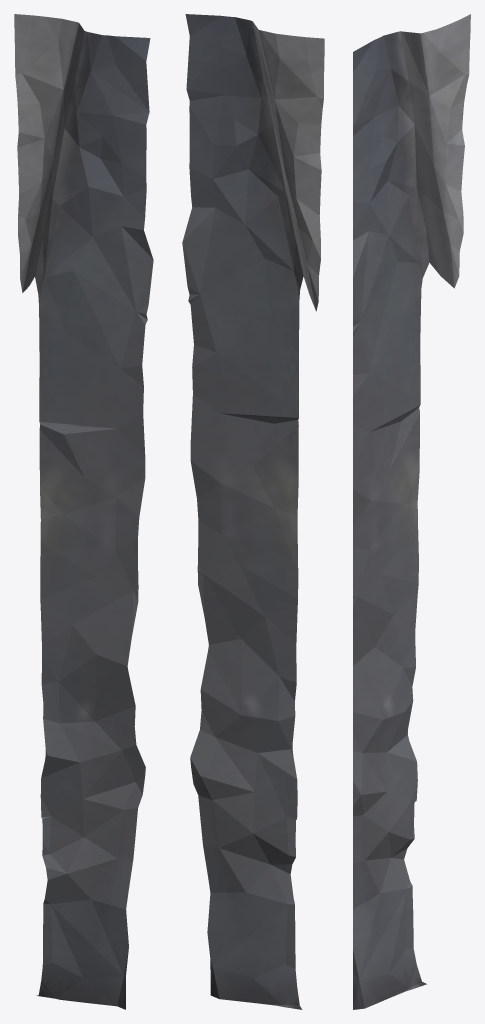
3 views of the same model, side by side, from view 1: azimuth 30°, elevation 25°; view 2: azimuth 210°, elevation 25°; view 3: azimuth 270°, elevation 25° (orthographic). The views are drawn at different scales.
Bounding box in the file's own units: 0.0731 × 0.8373 × 0.0922.
1 material, 1 textured.
